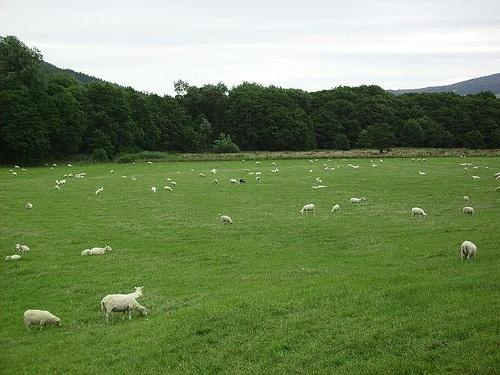sheep: (100, 294, 148, 324), (20, 308, 63, 331), (298, 200, 317, 219), (462, 241, 476, 262), (129, 287, 146, 301), (411, 207, 428, 220), (4, 254, 22, 262), (17, 244, 30, 253), (219, 216, 228, 227)
